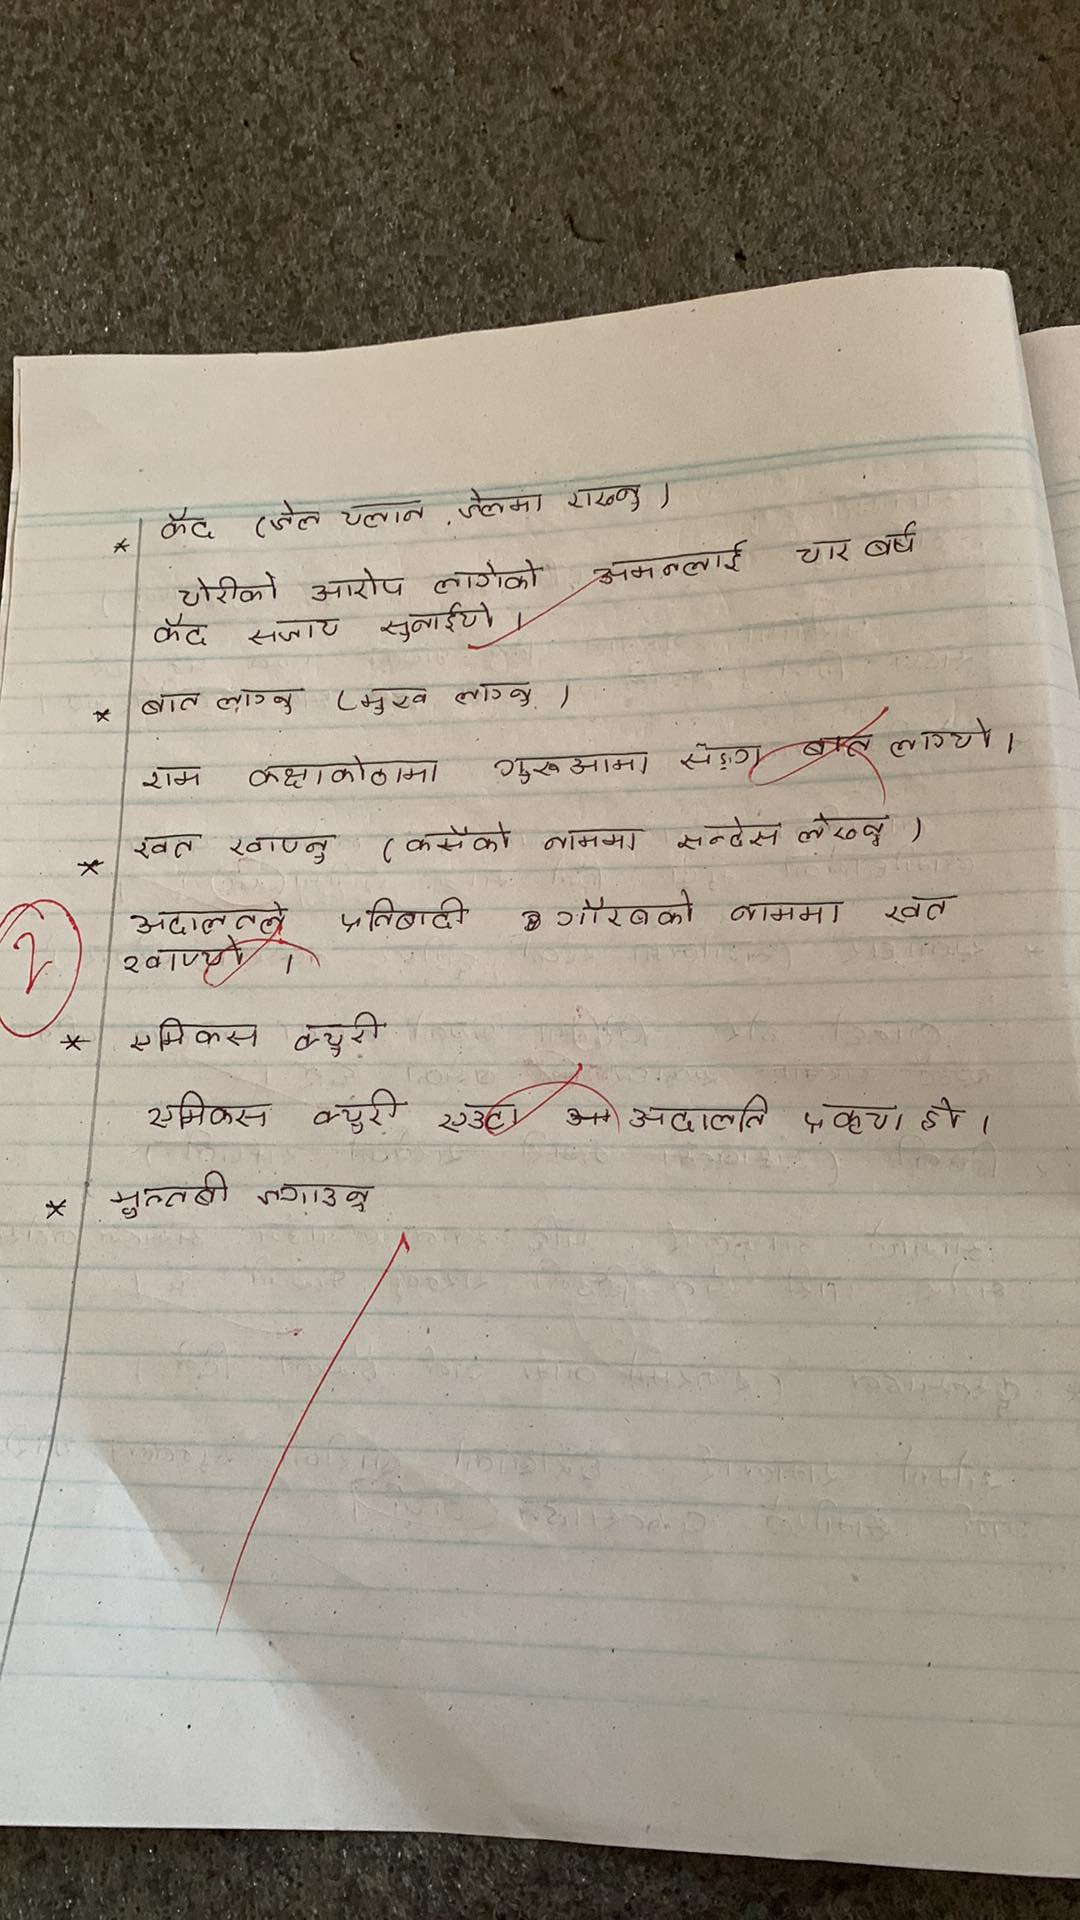text: (124, 893, 289, 942), (245, 749, 440, 789), (591, 535, 745, 584), (555, 885, 699, 934), (107, 1167, 231, 1221), (626, 1089, 771, 1135), (489, 745, 651, 785), (376, 595, 498, 644), (145, 1089, 273, 1135), (340, 893, 468, 936), (124, 1015, 264, 1055), (291, 1007, 385, 1062), (255, 1175, 376, 1216), (119, 936, 247, 975), (803, 1098, 909, 1145), (887, 719, 996, 764), (404, 818, 512, 862), (429, 556, 543, 597), (175, 568, 285, 609), (313, 1085, 401, 1135), (309, 563, 407, 605), (796, 808, 891, 852), (675, 815, 783, 851), (225, 829, 332, 865), (543, 822, 645, 858), (679, 737, 765, 781), (724, 899, 849, 928), (247, 613, 347, 649), (338, 495, 433, 531), (563, 476, 649, 517), (454, 484, 549, 520), (439, 1096, 520, 1137), (249, 498, 324, 541), (215, 684, 301, 721), (455, 675, 533, 712), (359, 680, 433, 717), (881, 891, 957, 927), (129, 828, 204, 862), (862, 520, 923, 560), (152, 612, 214, 649), (156, 506, 214, 545), (793, 533, 853, 568), (919, 1093, 961, 1141), (140, 765, 203, 795), (804, 732, 873, 760), (141, 691, 203, 719)
